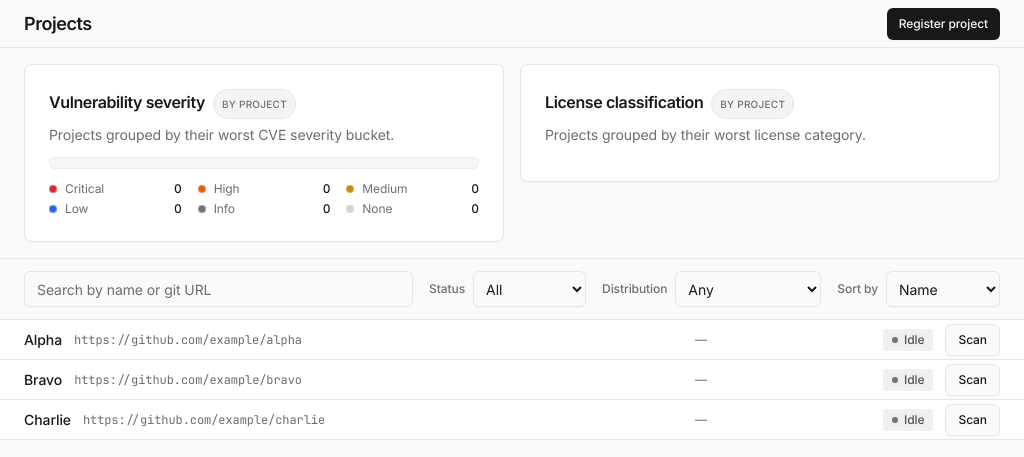
Test: ProjectListPage › sends the debounced search term to the server and renders its answer
Expected: the number of elements with test id "project-row" is 3, [0,320,1023,360]; [0,360,1023,400]; [0,400,1023,440]
In the search field with test id "project-search": (219, 289) [24,271,413,307], type "alp"
Wait 350 ms
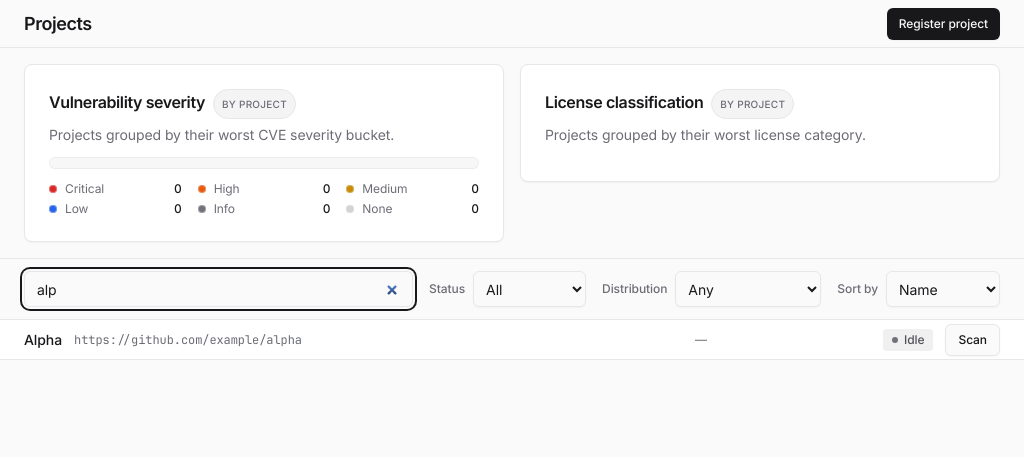
Expected: the number of elements with test id "project-row" is 1, [0,320,1023,360]
